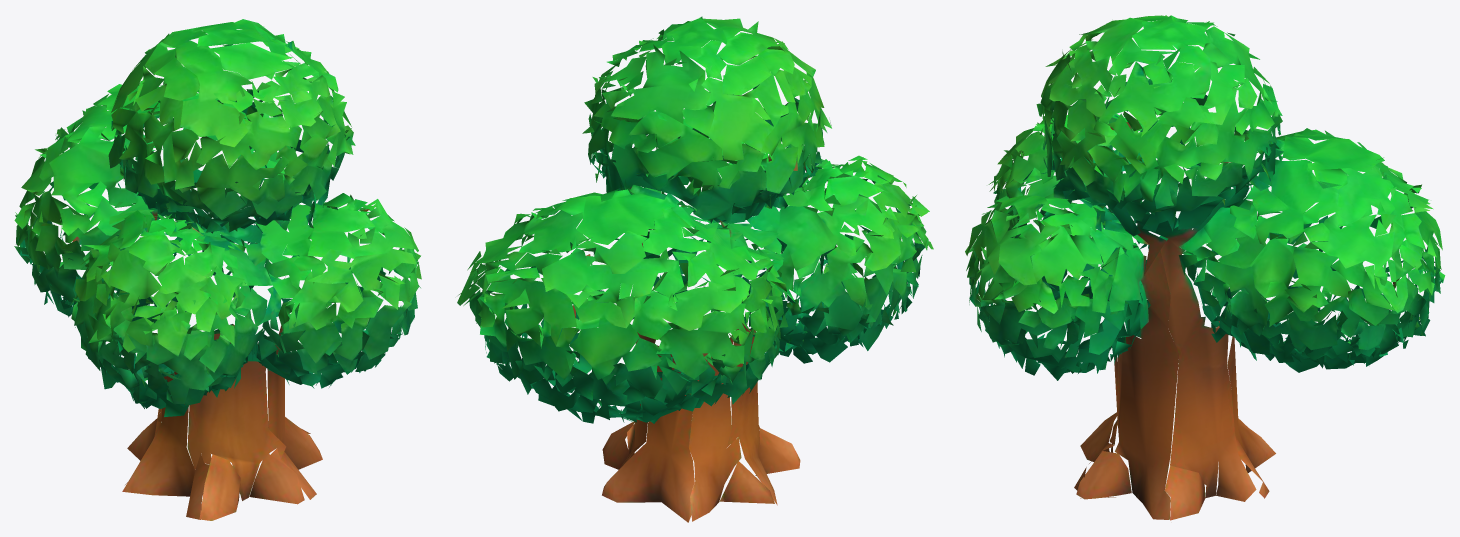
Rendered from tree.glb.
The picture shows the model from 3 angles, left to right: view 1: azimuth 30°, elevation 25°; view 2: azimuth 150°, elevation 25°; view 3: azimuth 270°, elevation 25°; orthographic projection.
Visible parts, largest first — view 1: tmpl4af1hr0.ply; view 2: tmpl4af1hr0.ply; view 3: tmpl4af1hr0.ply.
Part boxes in pixels (left/top/right/bottom): tmpl4af1hr0.ply: left=14, top=19, right=421, bottom=520; tmpl4af1hr0.ply: left=457, top=16, right=933, bottom=522; tmpl4af1hr0.ply: left=965, top=15, right=1445, bottom=520.
Bounding box in the file's own units: 1.45 × 1.95 × 1.88.
1 material, 1 textured.
